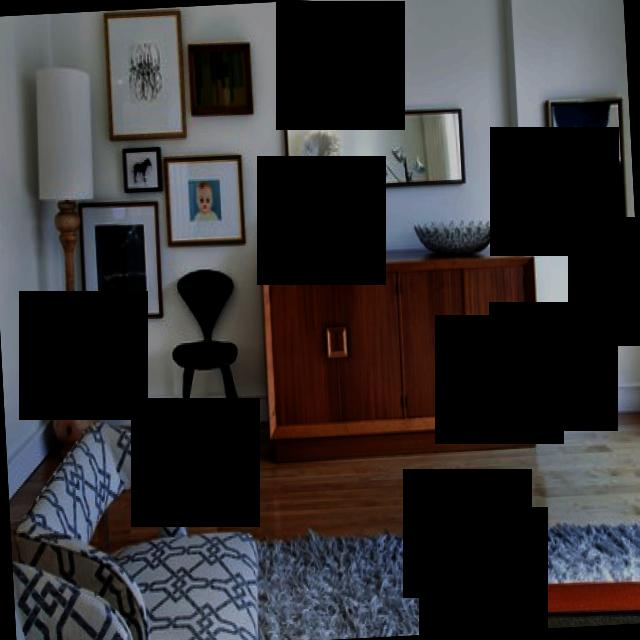vintage chair: (159, 250, 257, 472)
vintage shelf: (250, 228, 553, 474)
